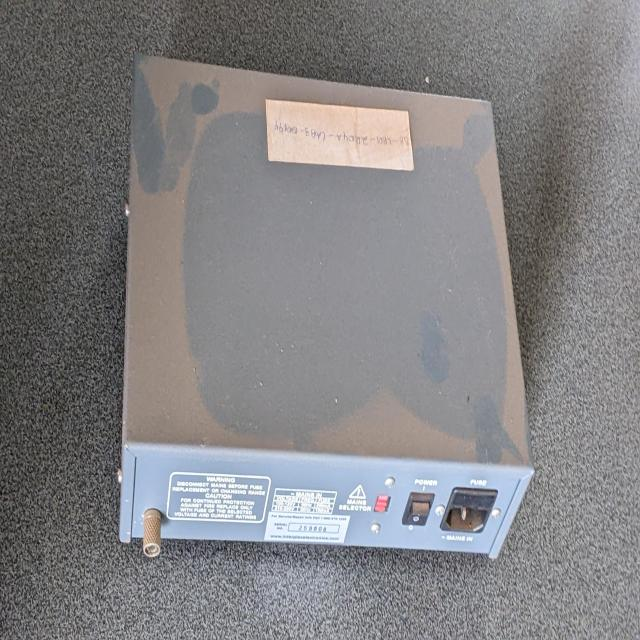A 200KHZ Function Generator: (111, 48, 534, 572)
